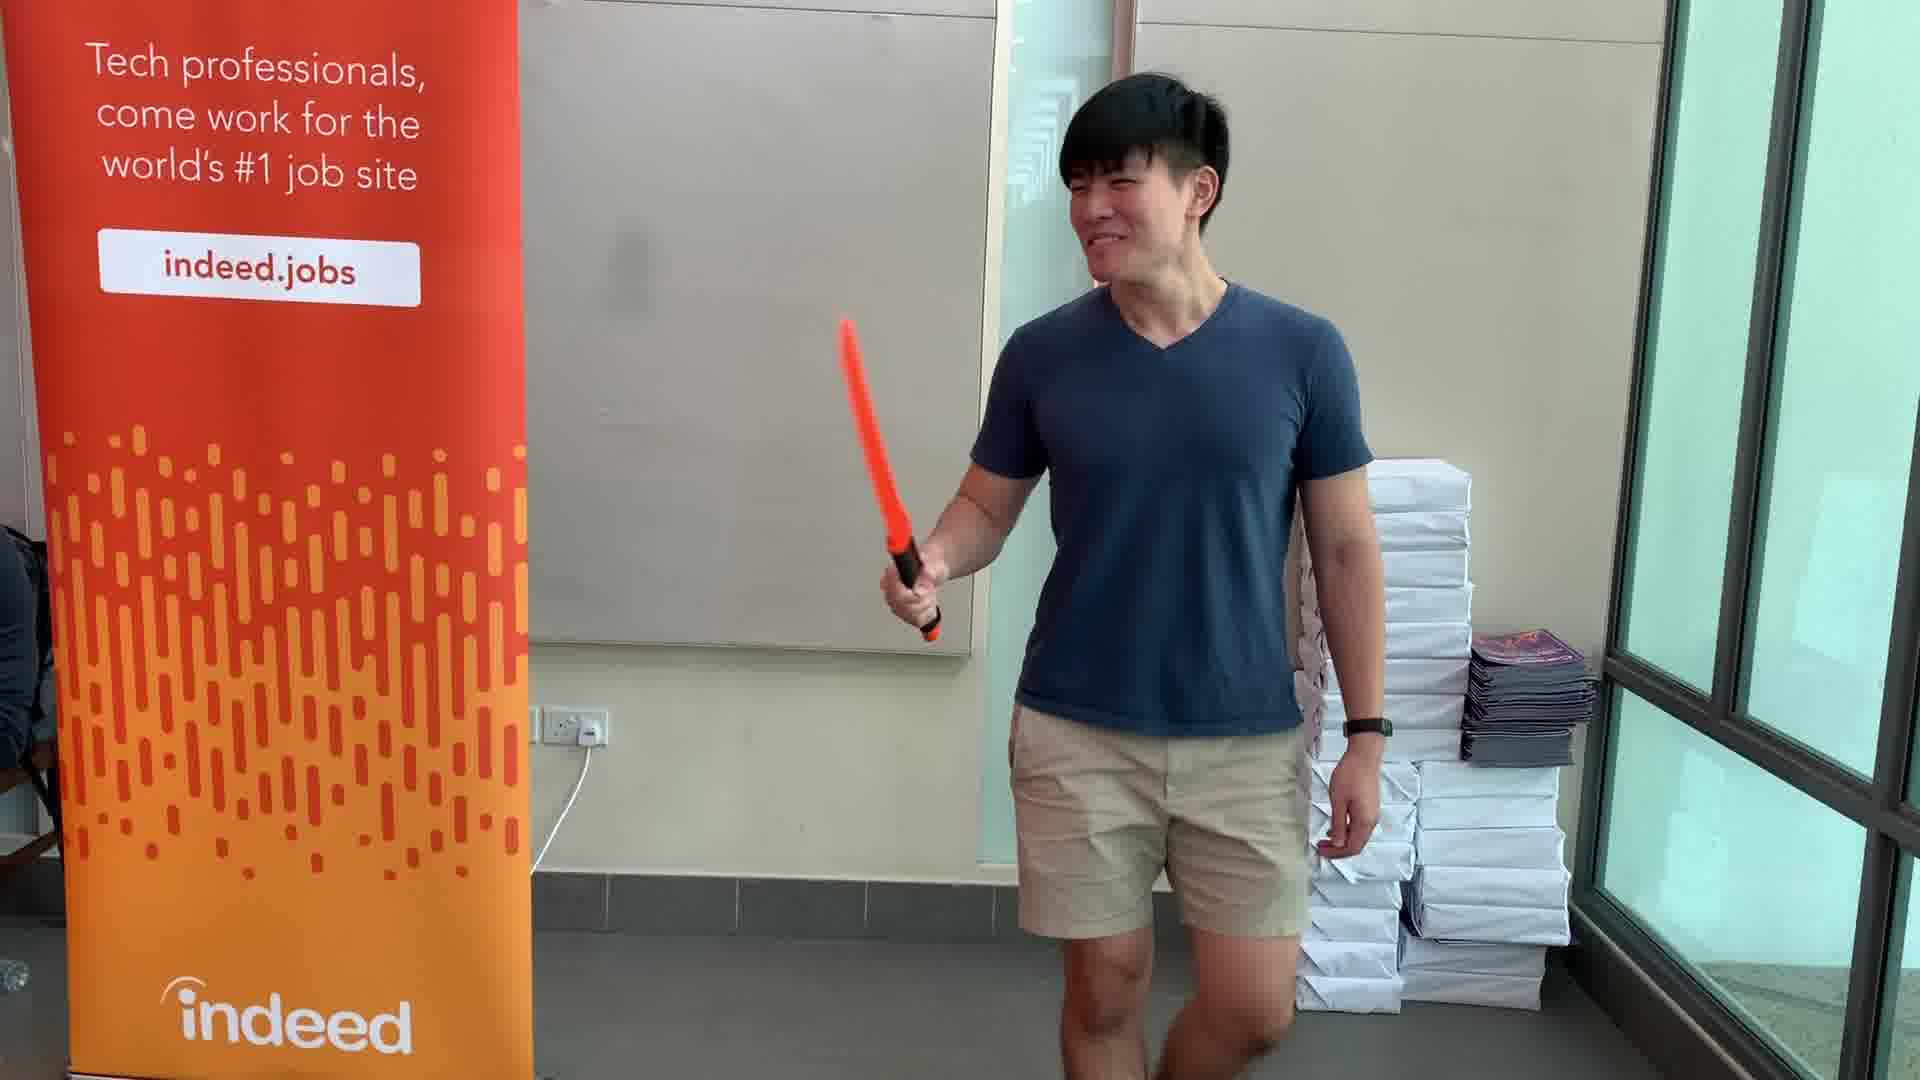knife: (827, 307, 951, 655)
